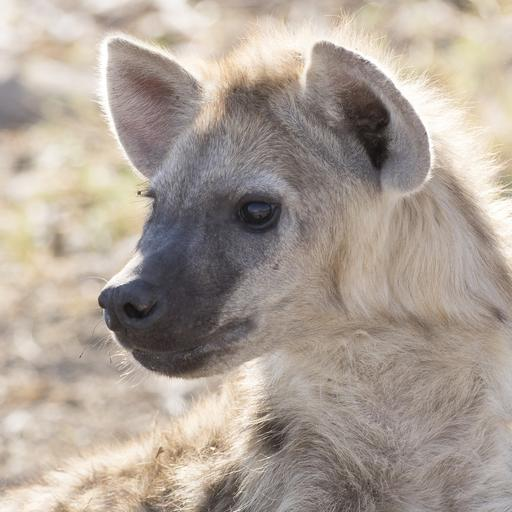Hyena: (95, 37, 512, 512)
